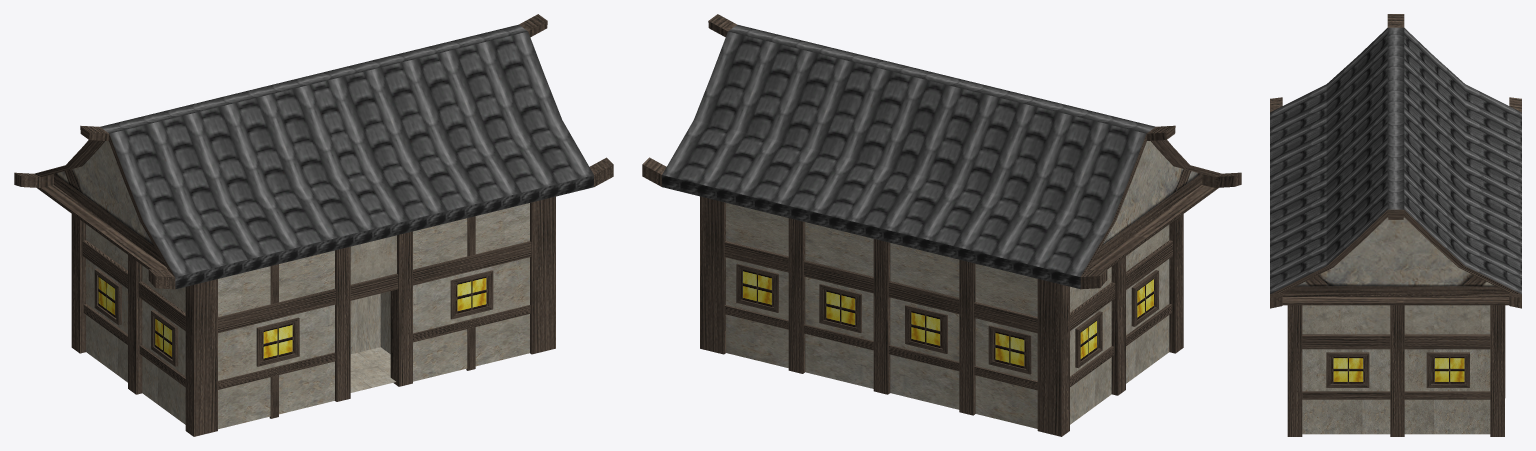
Rendered from casa-oriental-04-c.fbx.
3 views of the same model, side by side, from view 1: azimuth 30°, elevation 25°; view 2: azimuth 150°, elevation 25°; view 3: azimuth 270°, elevation 25° (orthographic). The views are drawn at different scales.
Visible parts, largest first — view 1: Cube.000, Cube.001, Cube.002; view 2: Cube.000, Cube.002; view 3: Cube.000, Cube.002.
Boxes of the visible parts, box(x1,y1,x2,y2) form: Cube.000: box(14, 14, 613, 436); Cube.001: box(350, 291, 395, 392); Cube.002: box(98, 276, 488, 360); Cube.000: box(642, 14, 1241, 436); Cube.002: box(740, 269, 1155, 368); Cube.000: box(1270, 14, 1521, 436); Cube.002: box(1330, 357, 1465, 383).
Bounding box in the file's own units: 9.06 × 5.24 × 4.85.
